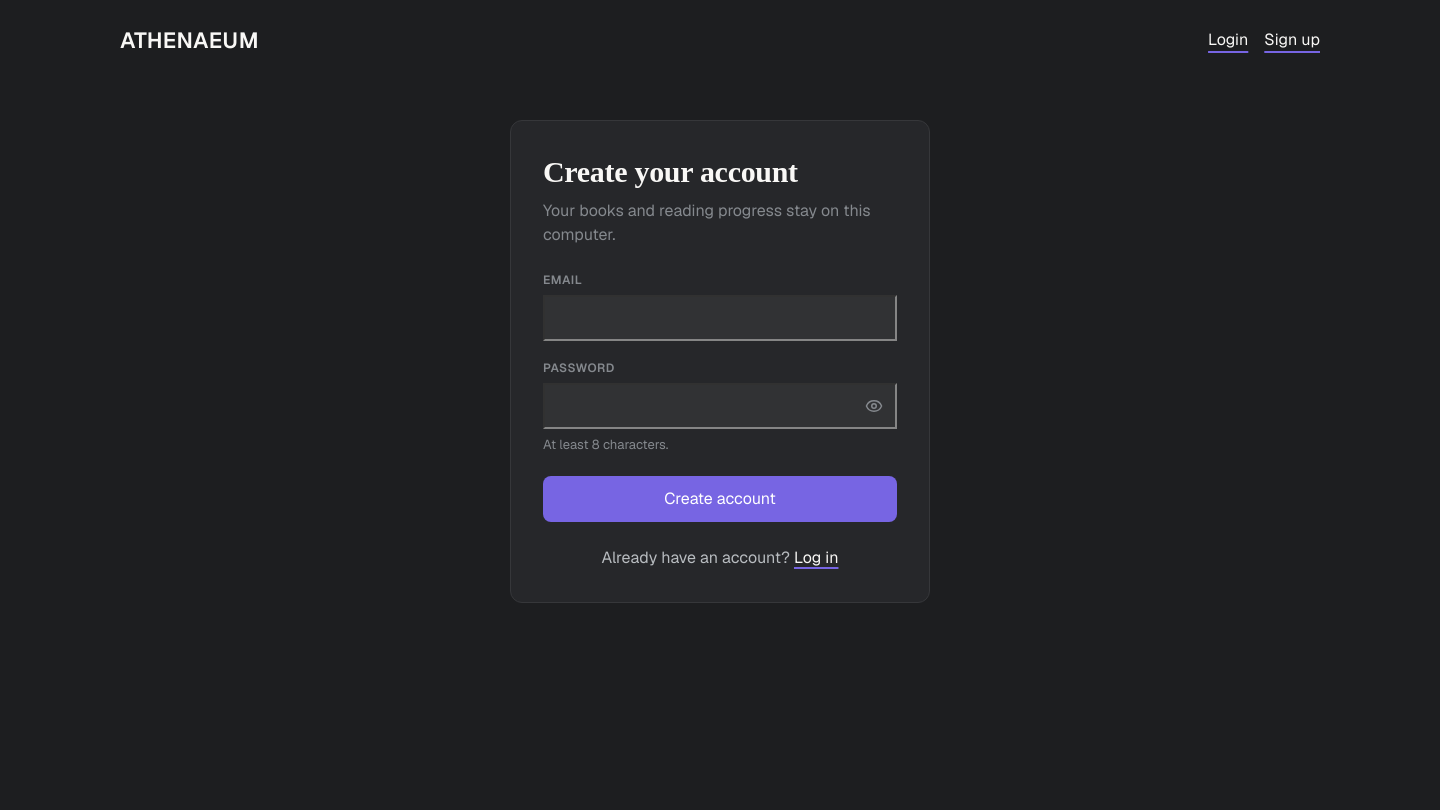
Test case: signup › checks the password length before sending anything
Type "new@example.com" into the field labelled "Email". click: (720, 318)
box: 543,294 -> 897,340
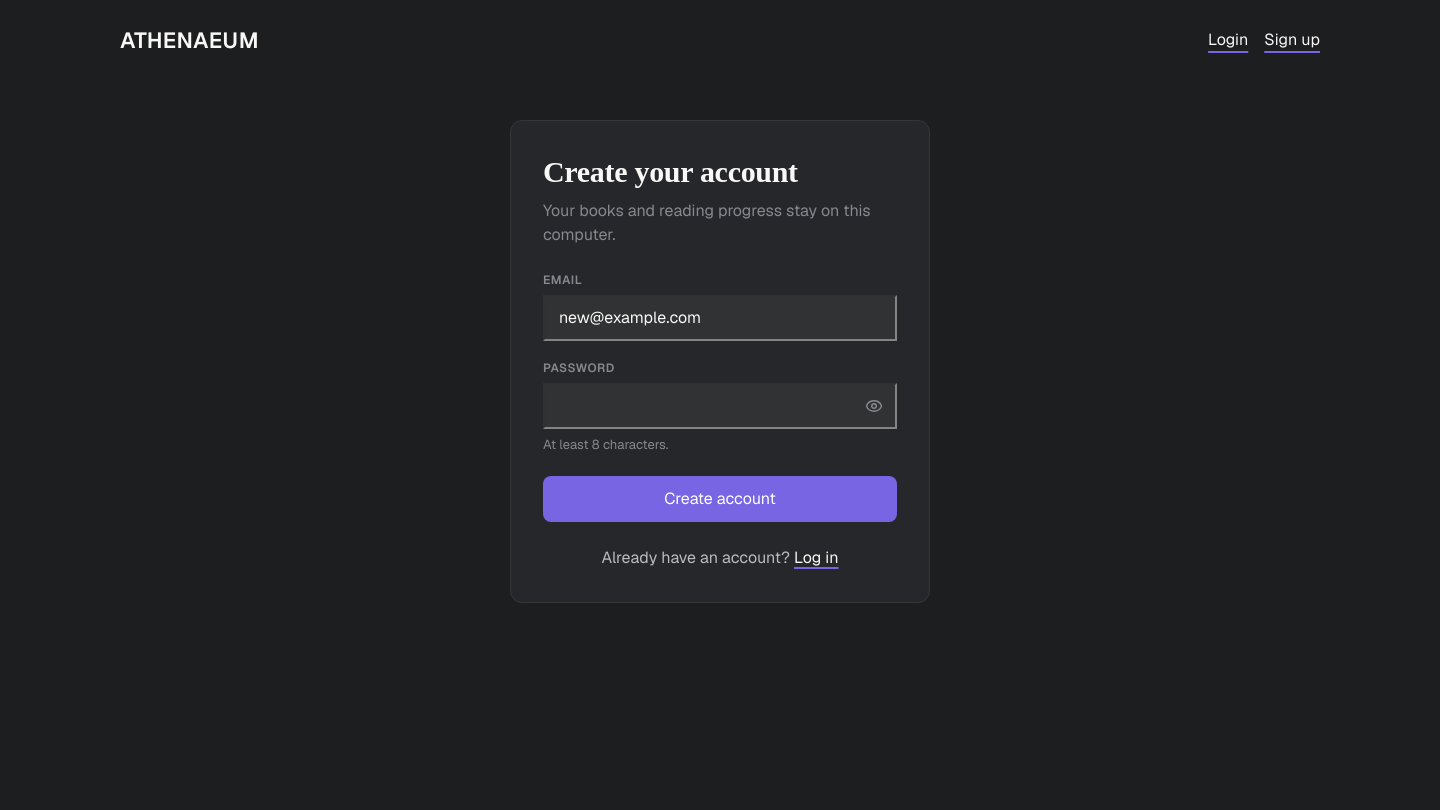
Type "short" into the password field labelled "Password". click: (720, 406)
box: 543,382 -> 897,428
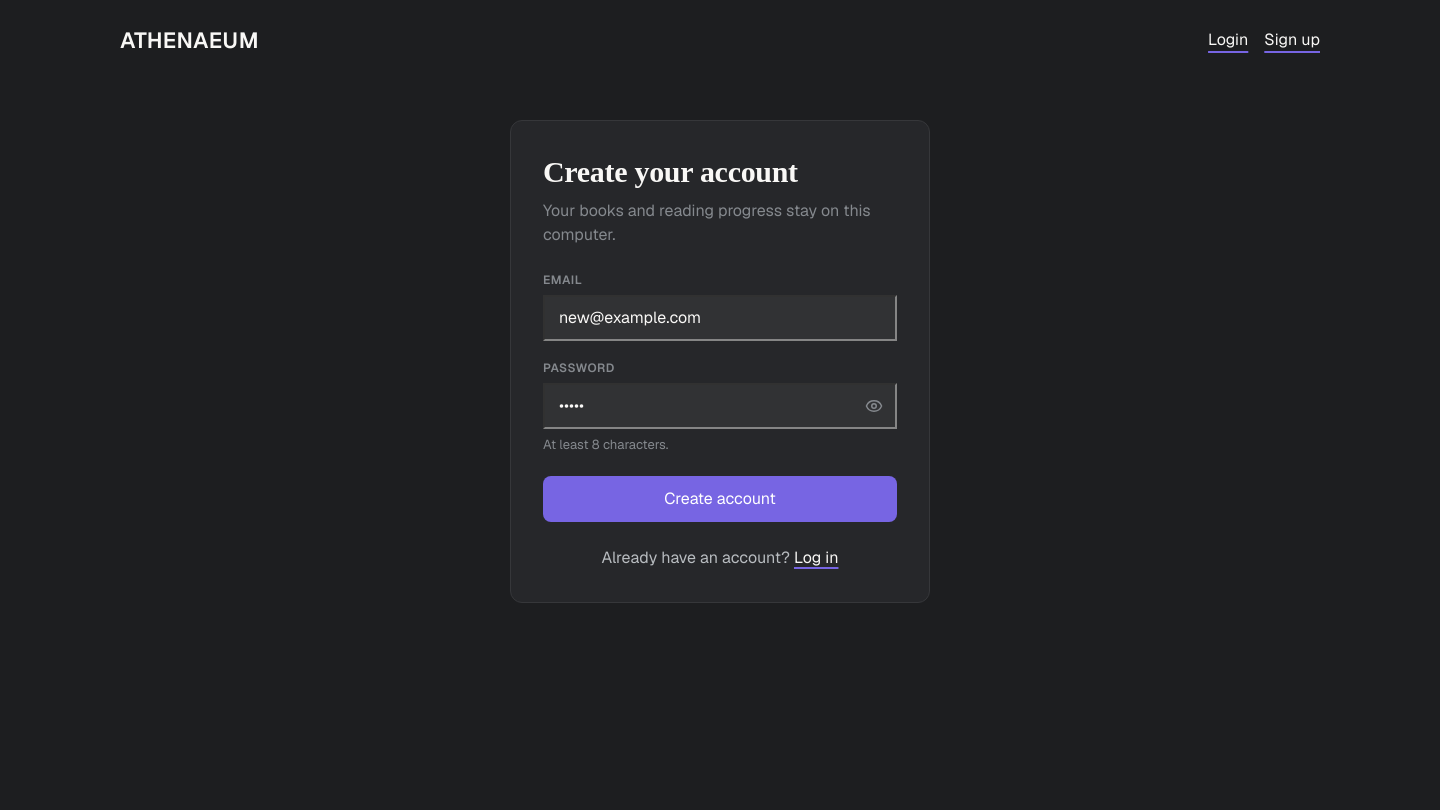
Click the button "Create account". click: (720, 499)
box: 543,476 -> 897,522
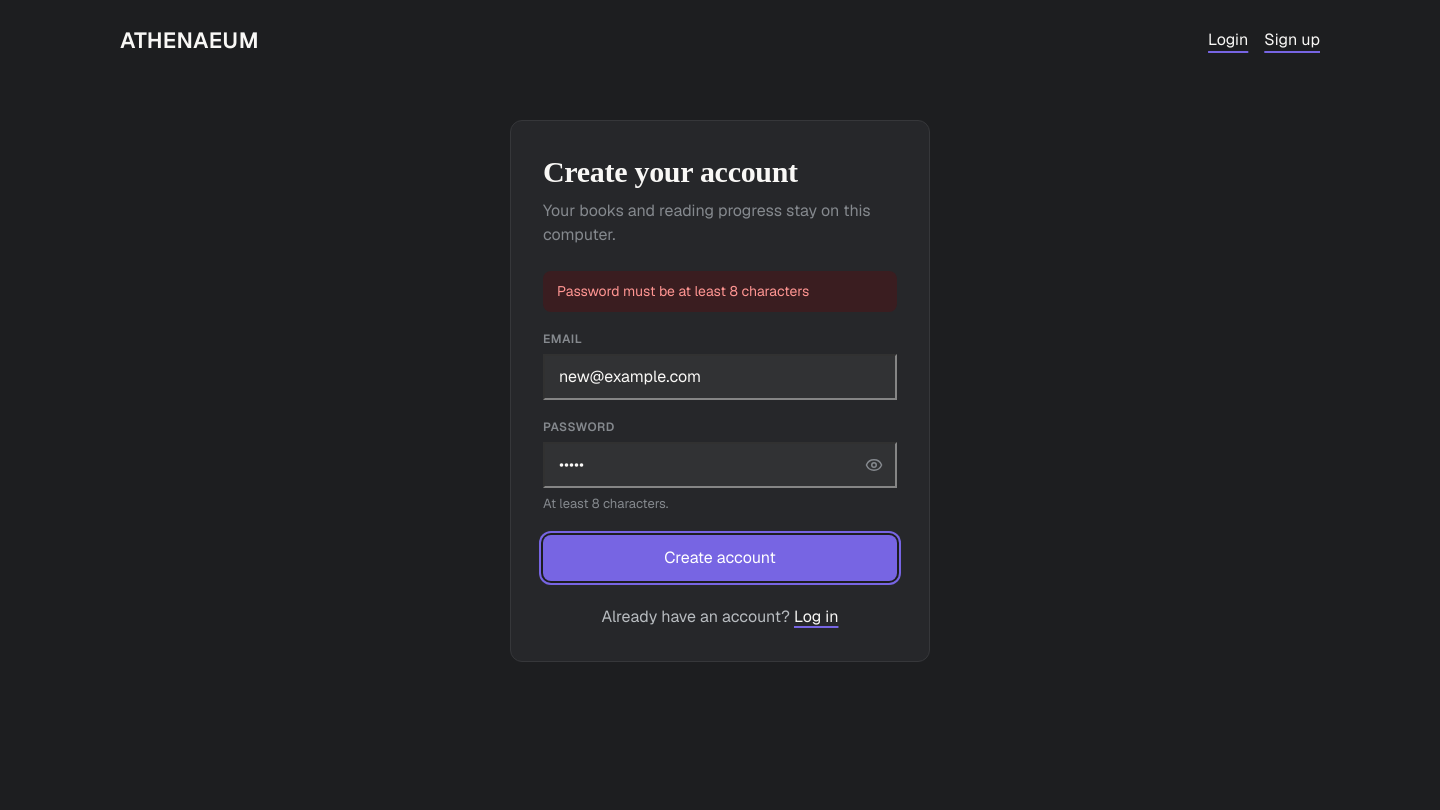
Expected: the message reads "Password must be at least 8 characters", 557,282 -> 809,300
